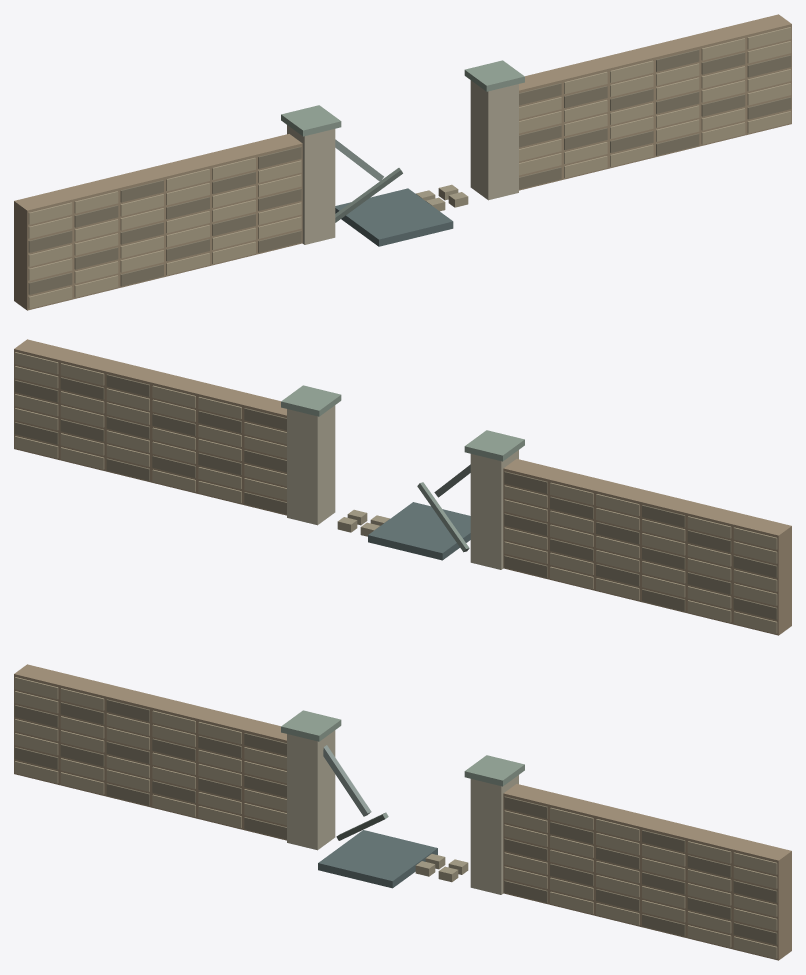
File: wall-gate-ruined.glb
The picture shows the model from 3 angles, top to bottom: view 1: azimuth 30°, elevation 25°; view 2: azimuth 150°, elevation 25°; view 3: azimuth 330°, elevation 25°; orthographic projection.
Visible parts, largest first — view 1: wall-gate-ruined; view 2: wall-gate-ruined; view 3: wall-gate-ruined.
Boxes of the visible parts, left/top/right/bottom form: wall-gate-ruined: left=14, top=14, right=791, bottom=310; wall-gate-ruined: left=14, top=339, right=791, bottom=635; wall-gate-ruined: left=14, top=664, right=791, bottom=960.
Size of the model in its own units: 20 by 2.92 by 2.05.
